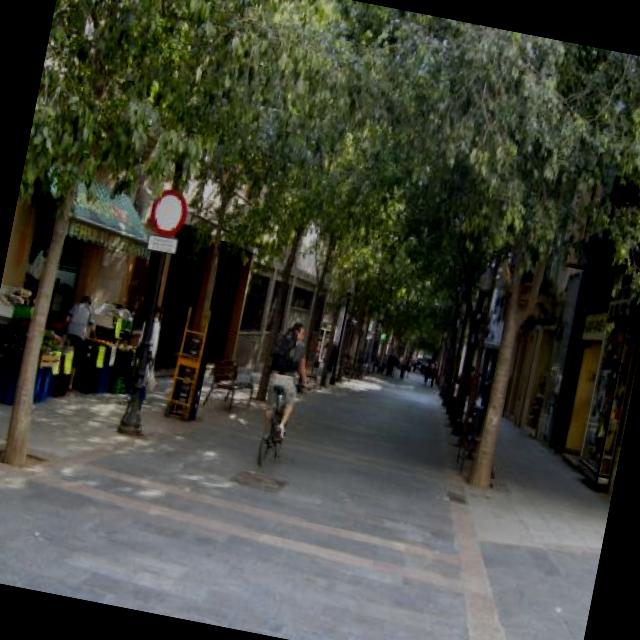Person: (254, 322, 312, 448), (48, 290, 102, 394), (122, 304, 168, 410)
